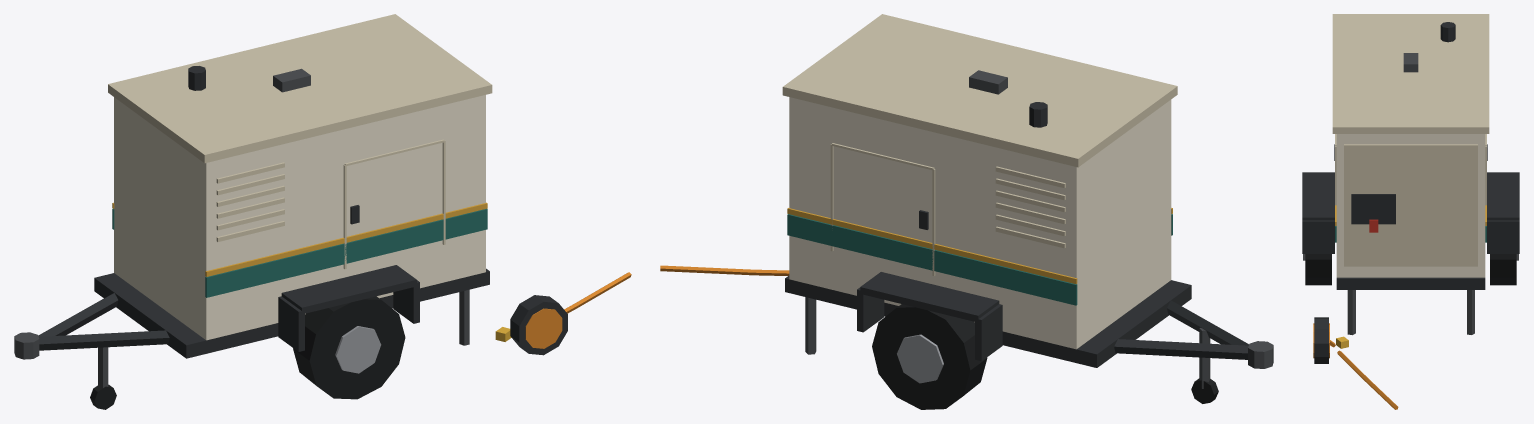
Rendered from lwf_hire_generator_isolated_v1.glb.
3 renders of one model, left to right at view 1: azimuth 30°, elevation 25°; view 2: azimuth 150°, elevation 25°; view 3: azimuth 270°, elevation 25°, orthographic. The views are drawn at different scales.
Visible parts, largest first — view 1: LWF_HireGenerator_Base, LWF_HireGenerator_State_Isolated; view 2: LWF_HireGenerator_Base; view 3: LWF_HireGenerator_Base, LWF_HireGenerator_State_Isolated.
Boxes of the visible parts, x1,y1,x2,y2 form: LWF_HireGenerator_Base: (14, 14, 631, 409); LWF_HireGenerator_State_Isolated: (188, 66, 511, 341); LWF_HireGenerator_Base: (660, 14, 1273, 409); LWF_HireGenerator_Base: (1302, 14, 1519, 409); LWF_HireGenerator_State_Isolated: (1330, 22, 1455, 348).
Size of the model in its own units: 3.79 by 1.73 by 1.46.
Materials: 1 (1 with a texture image).
